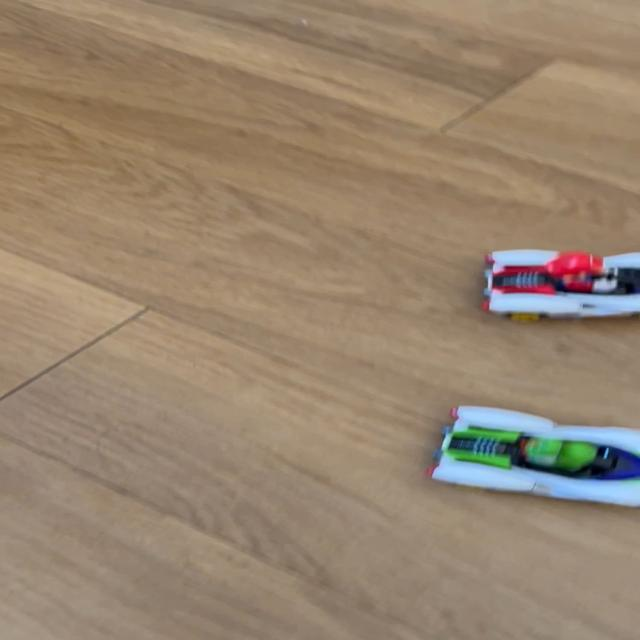mario: (460, 238, 640, 329)
yoshi: (414, 402, 640, 512)
